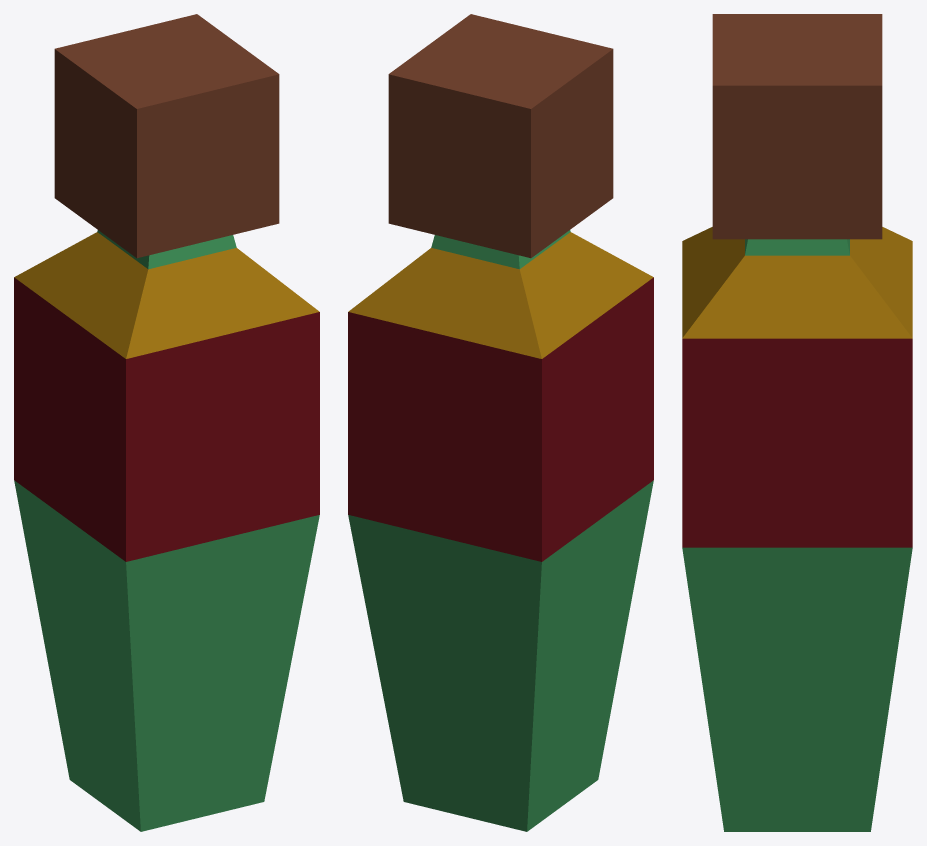
The picture shows the model from 3 angles, left to right: view 1: azimuth 30°, elevation 25°; view 2: azimuth 150°, elevation 25°; view 3: azimuth 270°, elevation 25°; orthographic projection. The views are drawn at different scales.
Parts seen in each view (by area): view 1: p1; view 2: p1; view 3: p1.
Part boxes in pixels (box(x1,y1,x2,y2)): p1: box(14, 14, 319, 831); p1: box(348, 14, 653, 831); p1: box(682, 14, 912, 831).
Bounding box in the file's own units: 14.56 × 52.36 × 14.56.
